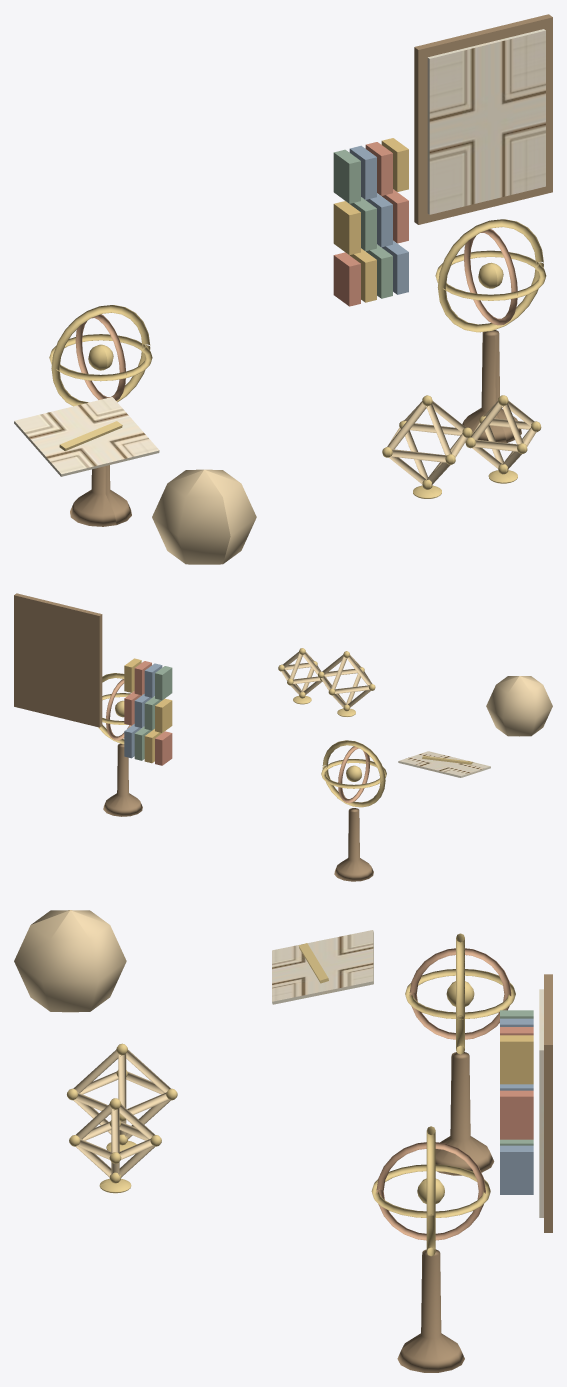
Rendered from spatial_instruments.glb.
3 renders of one model, top to bottom at view 1: azimuth 30°, elevation 25°; view 2: azimuth 150°, elevation 25°; view 3: azimuth 270°, elevation 25°, orthographic. The views are drawn at different scales.
Parts seen in each view (by area): view 1: Spatial_Static_Instruments, Poly_3, Poly_1, Poly_2; view 2: Spatial_Static_Instruments, Poly_3, Poly_1, Poly_2; view 3: Spatial_Static_Instruments, Poly_3, Poly_1, Poly_2.
Boxes of the visible parts, left/top/right/bottom form: Spatial_Static_Instruments: left=14, top=14, right=552, bottom=526; Poly_3: left=152, top=469, right=256, bottom=564; Poly_1: left=382, top=395, right=472, bottom=489; Poly_2: left=465, top=395, right=541, bottom=474; Spatial_Static_Instruments: left=14, top=593, right=490, bottom=881; Poly_3: left=486, top=676, right=552, bottom=736; Poly_1: left=318, top=651, right=375, bottom=711; Poly_2: left=278, top=648, right=326, bottom=698; Spatial_Static_Instruments: left=272, top=930, right=552, bottom=1372; Poly_3: left=14, top=910, right=126, bottom=1012; Poly_1: left=67, top=1043, right=177, bottom=1145; Poly_2: left=69, top=1098, right=161, bottom=1183.
Bounding box in the file's own units: 3.4 × 1.83 × 2.39.
Materials: 9 (1 with a texture image).
